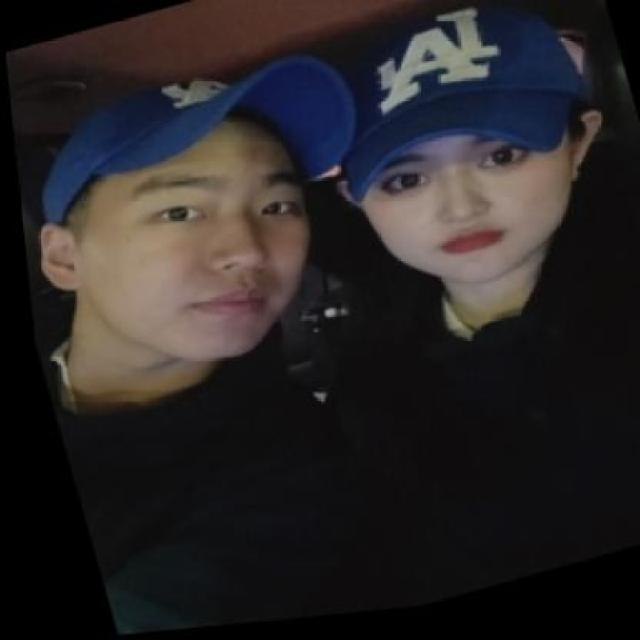hat: (8, 38, 370, 258), (280, 0, 605, 217)
